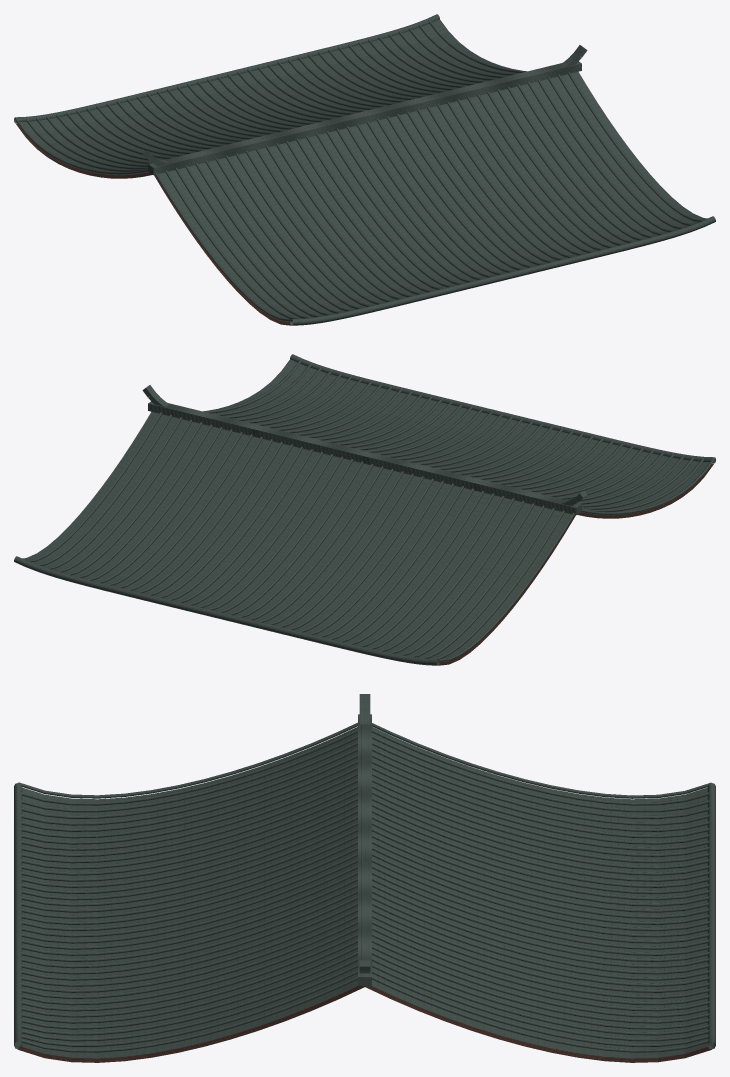
The model's file is chan_roof.glb.
3 views of the same model, one above another, from view 1: azimuth 30°, elevation 25°; view 2: azimuth 150°, elevation 25°; view 3: azimuth 270°, elevation 25° (orthographic). The views are drawn at different scales.
Visible parts, largest first — view 1: chan_roof0; view 2: chan_roof0; view 3: chan_roof0.
Boxes of the visible parts, <box> form: chan_roof0: <box>14,14,715,325</box>; chan_roof0: <box>14,354,715,665</box>; chan_roof0: <box>14,694,715,1062</box>.
Size of the model in its own units: 11.99 by 2.25 by 13.16.
1 material, 1 textured.
